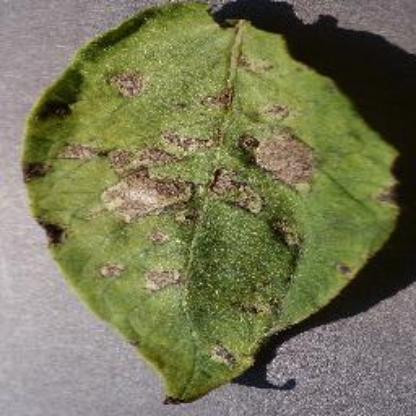Early-Blight: (24, 2, 400, 404)
